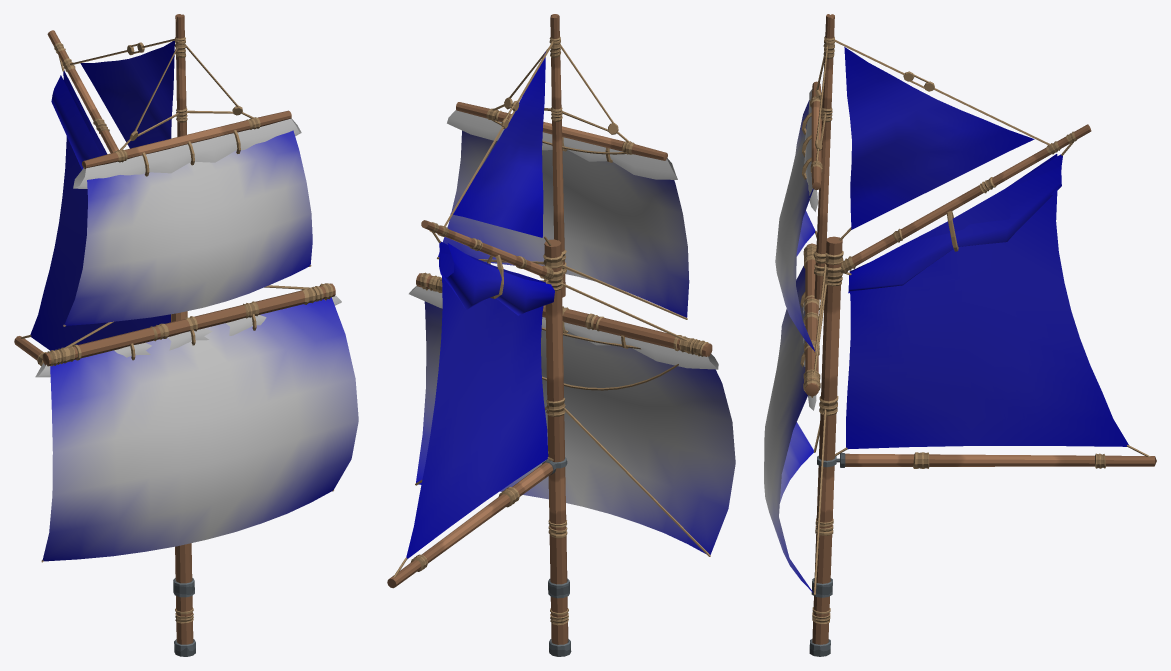
The model's file is SM_Veh_Ship_M_Mast_Back_01.fbx.
3 renders of one model, left to right at view 1: azimuth 30°, elevation 25°; view 2: azimuth 150°, elevation 25°; view 3: azimuth 270°, elevation 25°, orthographic.
Visible parts, largest first — view 1: SM_Veh_Ship_M_Mast_Back_01_Boom_01, SM_Veh_Ship_M_Mast_Back_01, SM_Veh_Ship_M_Mast_Back_01_Boom_Back_01; view 2: SM_Veh_Ship_M_Mast_Back_01_Boom_01, SM_Veh_Ship_M_Mast_Back_01, SM_Veh_Ship_M_Mast_Back_01_Boom_Back_01; view 3: SM_Veh_Ship_M_Mast_Back_01_Boom_Back_01, SM_Veh_Ship_M_Mast_Back_01, SM_Veh_Ship_M_Mast_Back_01_Boom_01.
Boxes of the visible parts, x1=… form: SM_Veh_Ship_M_Mast_Back_01_Boom_01: x1=35, y1=118, x2=358, y2=562; SM_Veh_Ship_M_Mast_Back_01: x1=14, y1=14, x2=335, y2=656; SM_Veh_Ship_M_Mast_Back_01_Boom_Back_01: x1=20, y1=55, x2=170, y2=350; SM_Veh_Ship_M_Mast_Back_01_Boom_01: x1=409, y1=110, x2=735, y2=556; SM_Veh_Ship_M_Mast_Back_01: x1=387, y1=14, x2=712, y2=656; SM_Veh_Ship_M_Mast_Back_01_Boom_Back_01: x1=393, y1=232, x2=554, y2=577; SM_Veh_Ship_M_Mast_Back_01_Boom_Back_01: x1=835, y1=141, x2=1150, y2=457; SM_Veh_Ship_M_Mast_Back_01: x1=803, y1=14, x2=1156, y2=656; SM_Veh_Ship_M_Mast_Back_01_Boom_01: x1=764, y1=89, x2=826, y2=595.
Size of the model in its own units: 1502 by 2966 by 1659.
